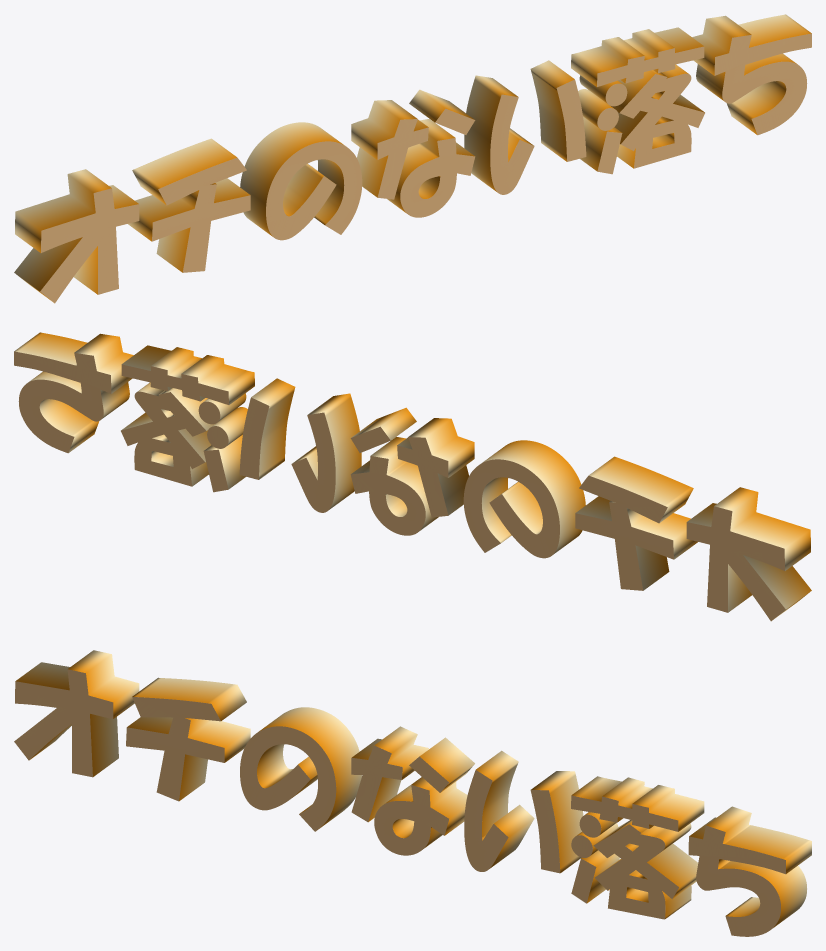
Rendered from title.obj.
3 renders of one model, top to bottom at view 1: azimuth 30°, elevation 25°; view 2: azimuth 150°, elevation 25°; view 3: azimuth 330°, elevation 25°, orthographic.
Parts seen in each view (by area): view 1: テキスト; view 2: テキスト; view 3: テキスト.
Boxes of the visible parts, x1=… form: テキスト: x1=14, y1=14, x2=811, y2=303; テキスト: x1=14, y1=332, x2=811, y2=621; テキスト: x1=14, y1=650, x2=811, y2=936.
Bounding box in the file's own units: 12.9 × 1.77 × 0.7537.
